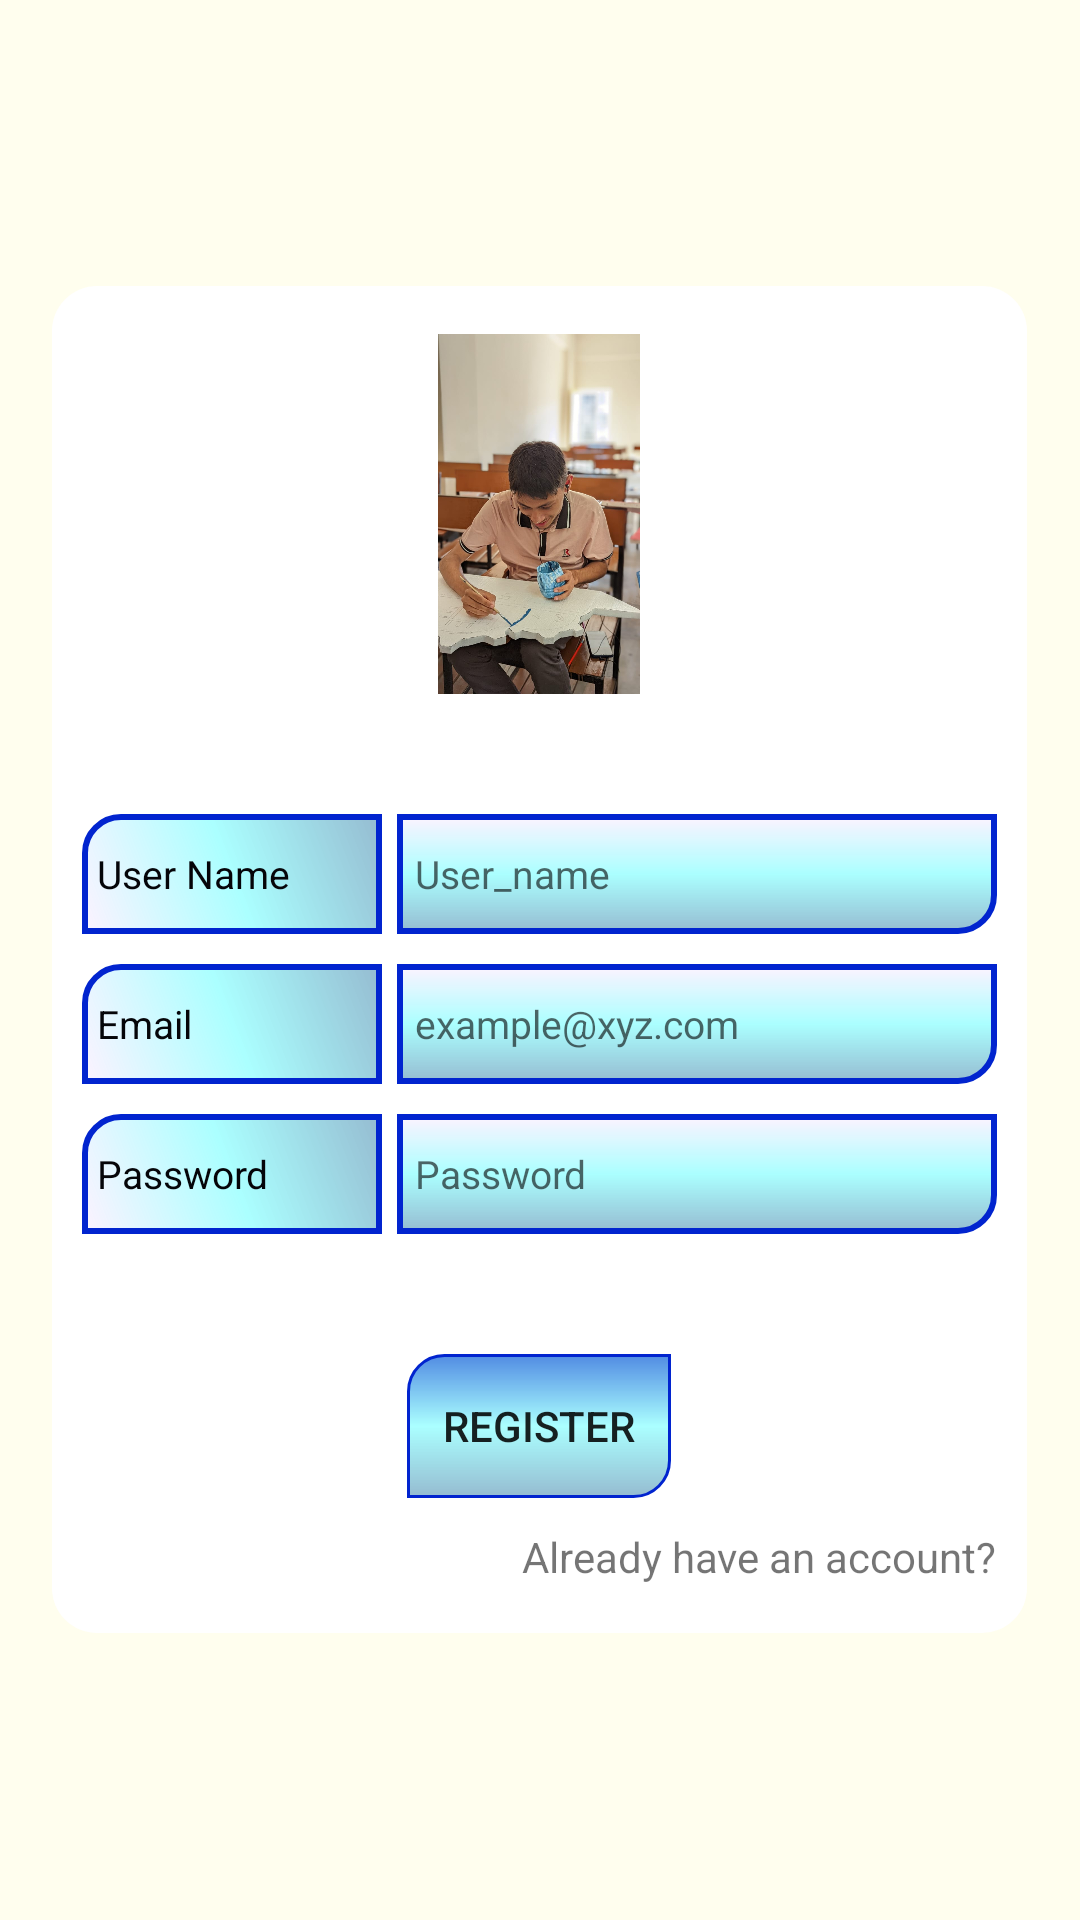

Named icons in this screenshot (1080 × 1920) and their centers, [x,y]:
profile: [539,514]
